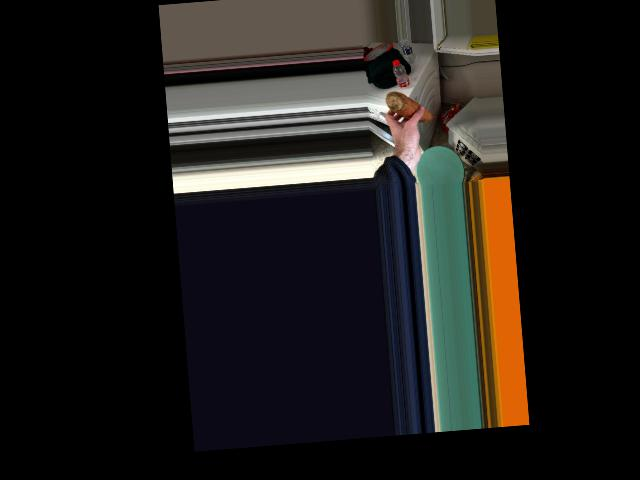sweet_potato: (385, 87, 433, 123)
